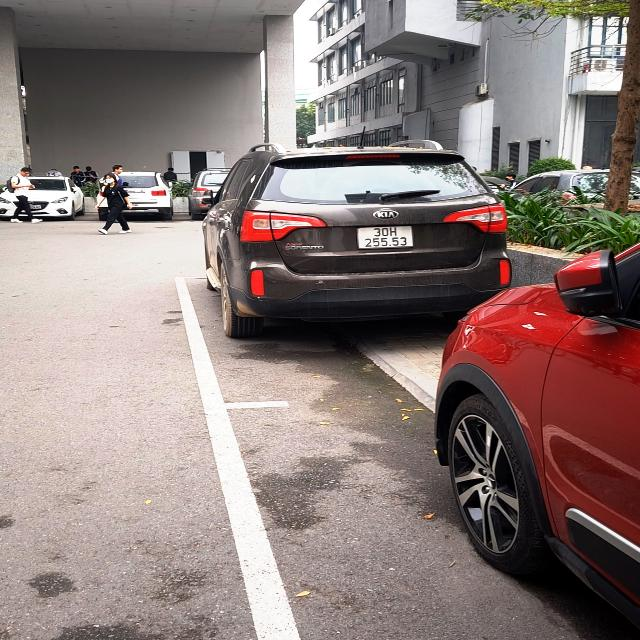license_plate: (359, 227, 414, 250)
